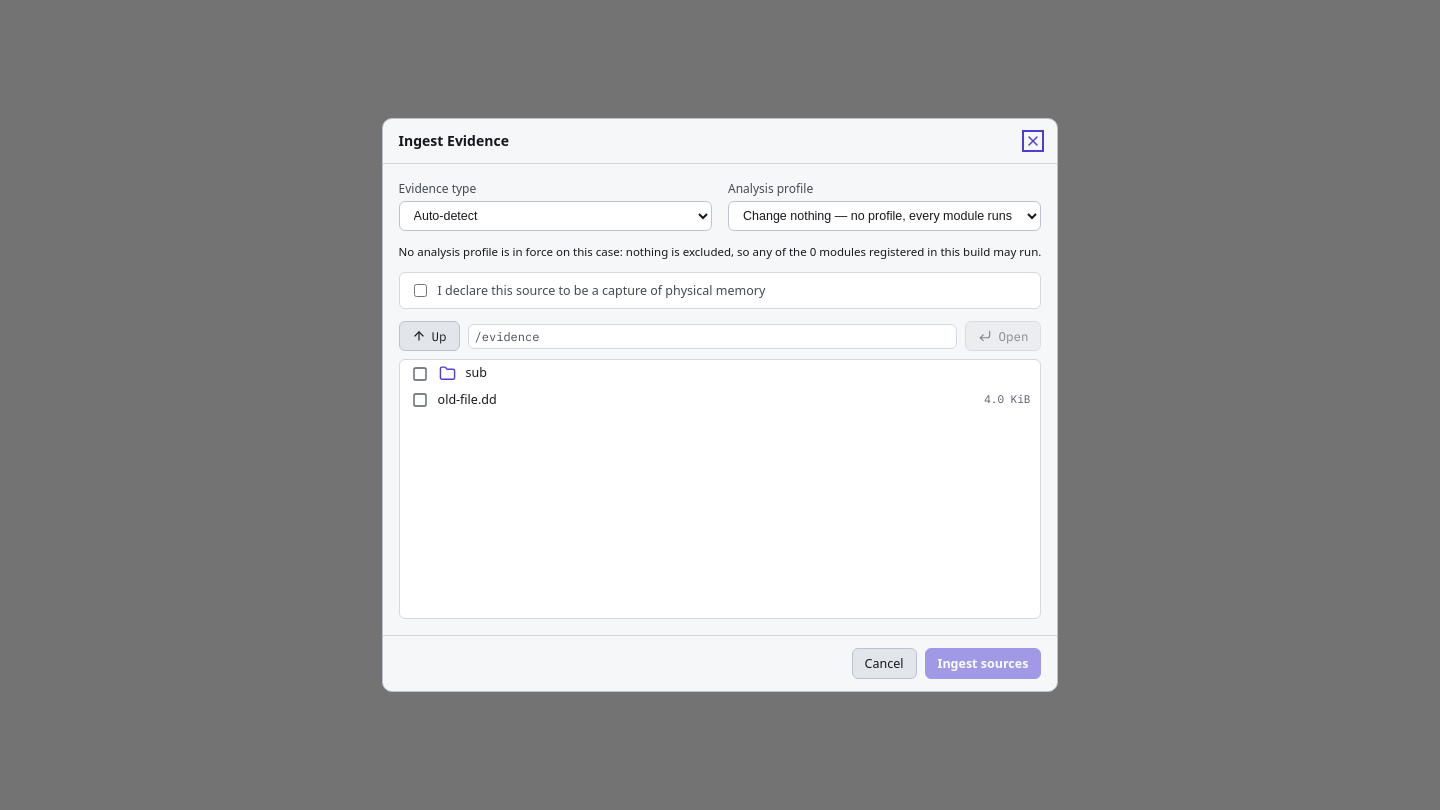
Test: IngestModal › does not show the previous directory while a new path loads (BUG-202)
Expected: the text "old-file.dd" is shown, [438,391,497,408]
// Descend into a subdirectory whose listing never resolves.
Click the text "sub" at [476, 373], box [466,364,487,382]
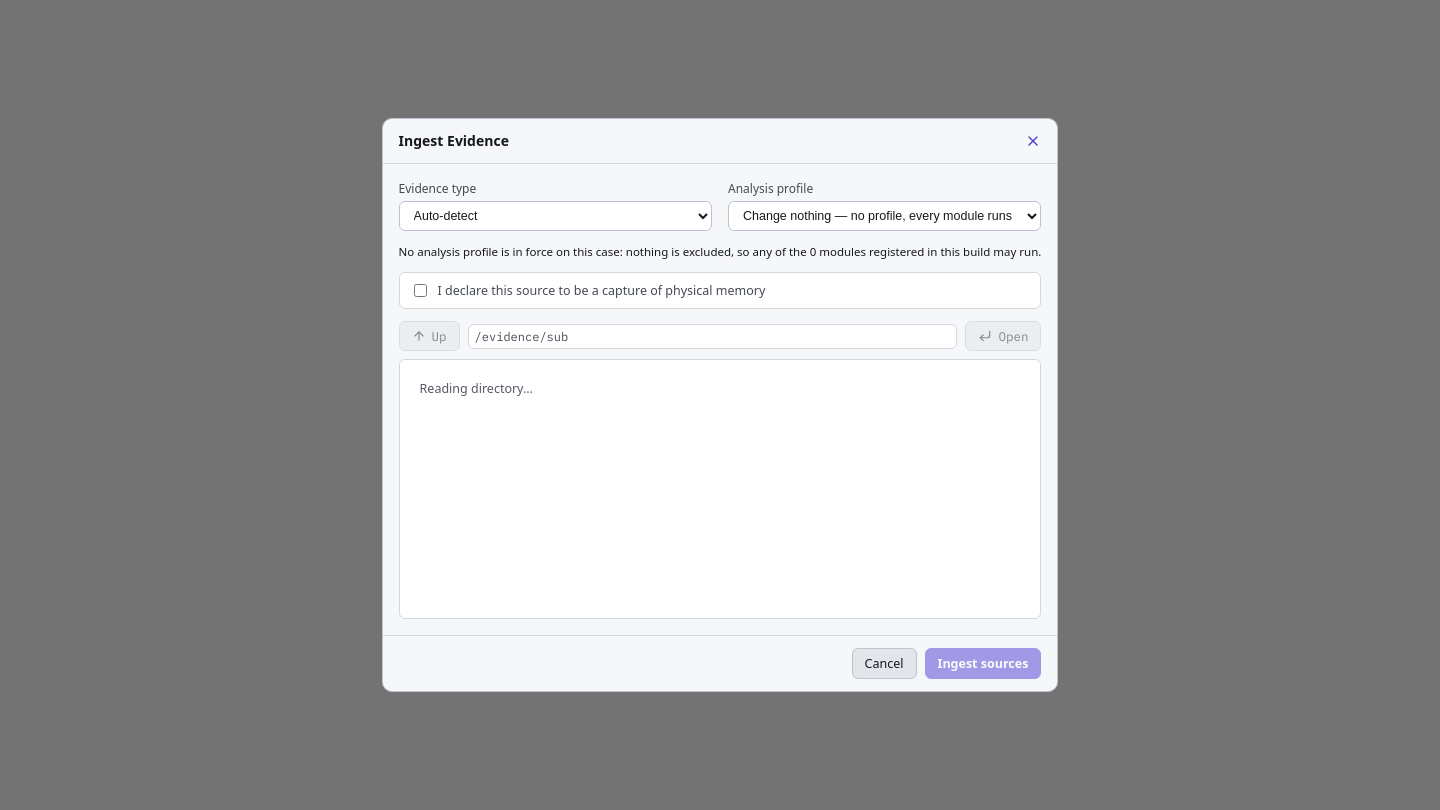
Expected: the text "old-file.dd" is gone
Expected: the text "Reading directory…" is shown, [420,380,533,398]
